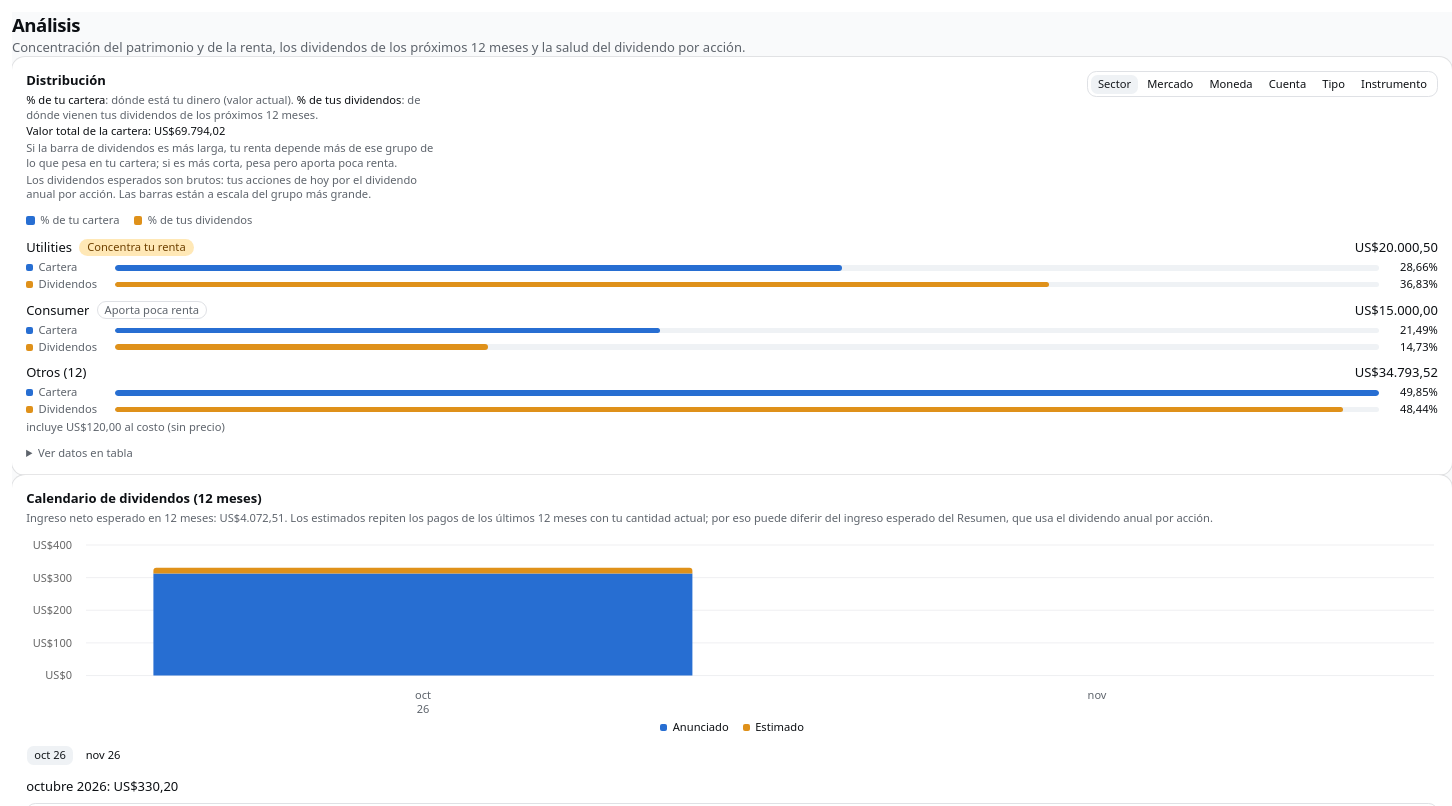
it: AnalysisScreen — calendario de dividendos › resume el ingreso esperado, permite elegir mes y lista sus pagos con su estado
This screenshot has width=1452, height=806.
Click the button with aria-label "noviembre 2026".
click(103, 756)  # box [78,745,128,766]
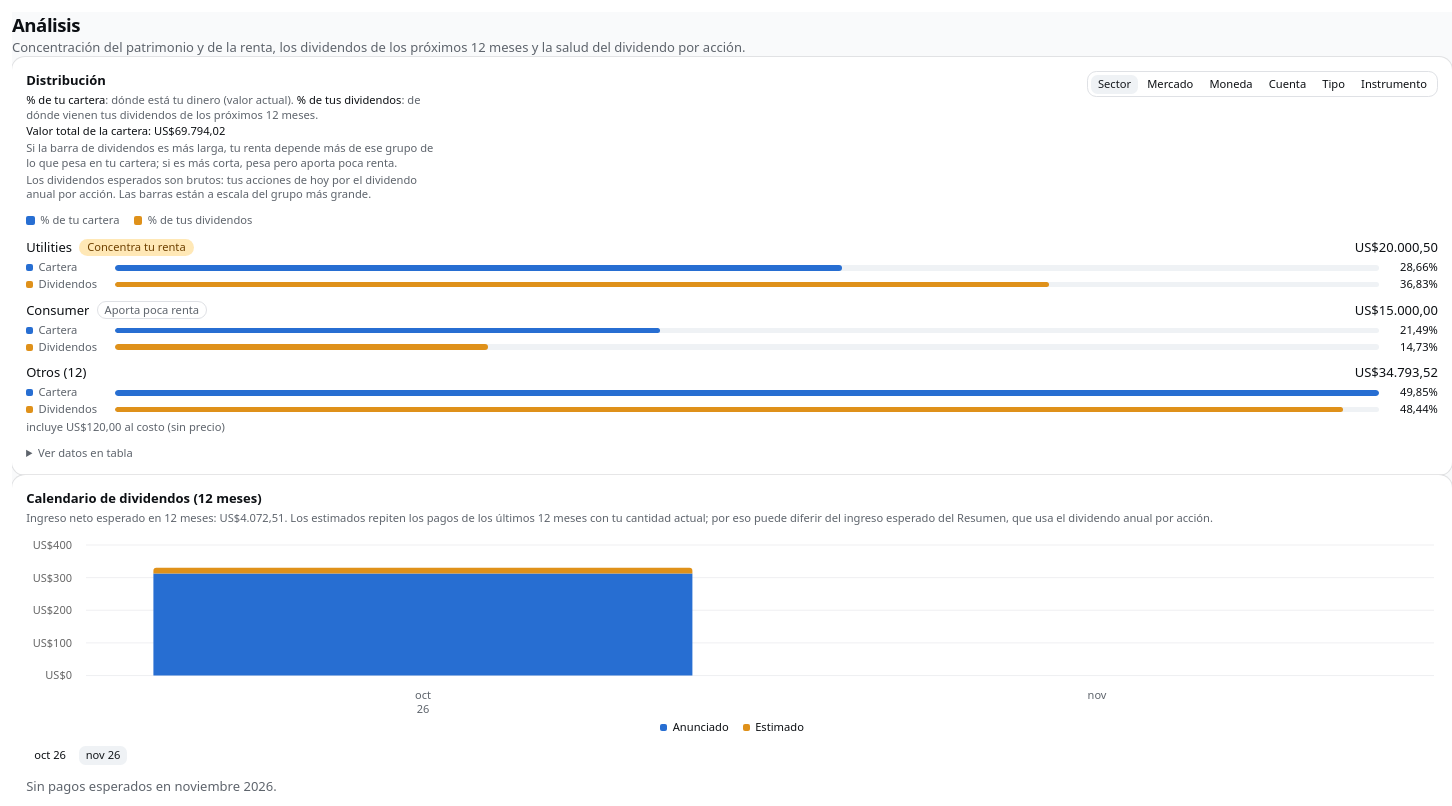
Check: the text "Sin pagos esperados en noviembre 2026." is shown, box [26,777,277,795]
